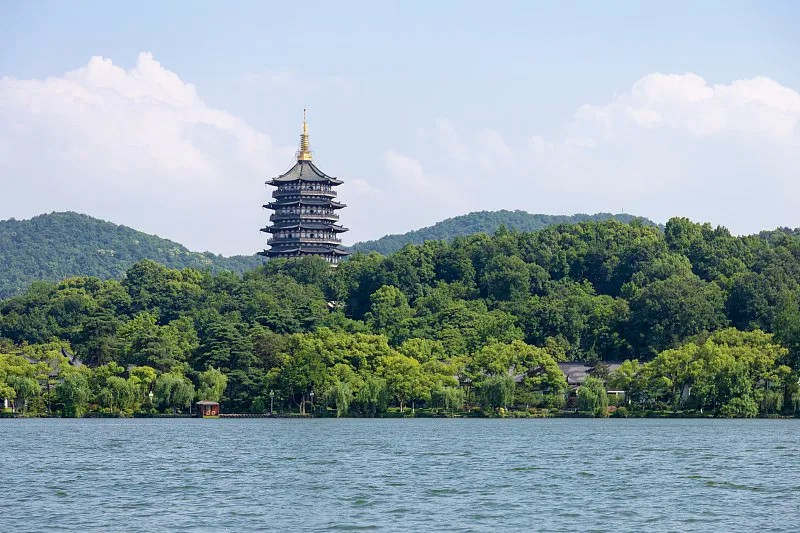Leifeng: (254, 106, 351, 277)
